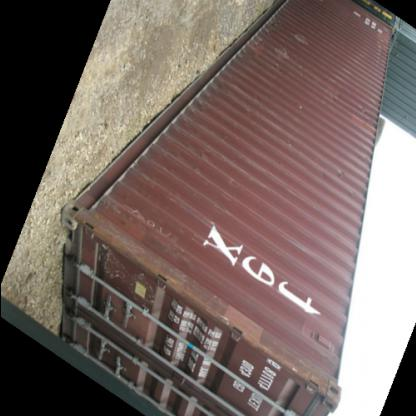Damage: (96, 212, 200, 300), (256, 340, 328, 394), (274, 32, 318, 66), (186, 132, 216, 172), (314, 162, 356, 190), (352, 94, 378, 134), (328, 77, 346, 107), (376, 26, 388, 66)
